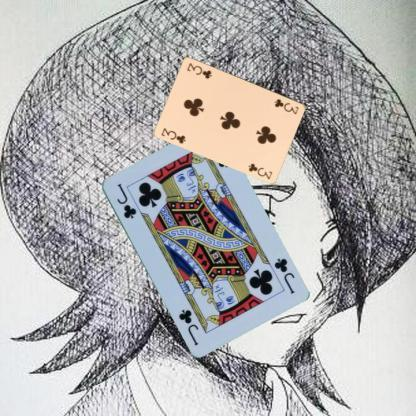3c: (158, 125, 188, 145), (272, 96, 300, 116)
Jc: (271, 254, 296, 296), (113, 180, 138, 220)
